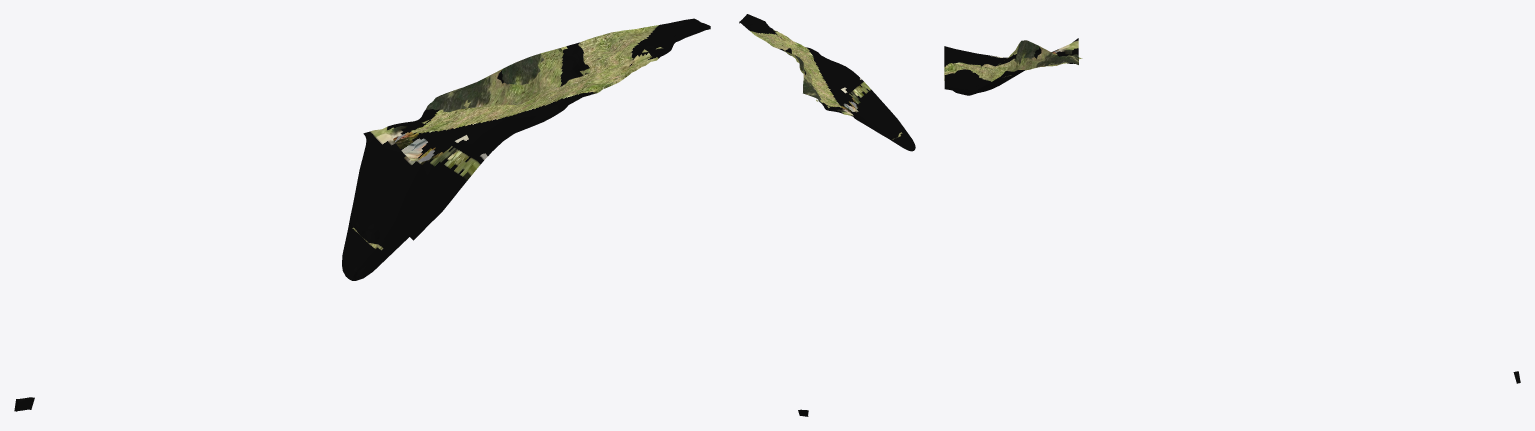
The picture shows the model from 3 angles, left to right: view 1: azimuth 30°, elevation 25°; view 2: azimuth 150°, elevation 25°; view 3: azimuth 270°, elevation 25°; orthographic projection. The views are drawn at different scales.
Parts seen in each view (by area): view 1: node_85; view 2: node_85; view 3: node_85.
Part boxes in pixels (x1,y1,x2,y2): node_85: [14, 18, 710, 411]; node_85: [739, 14, 915, 416]; node_85: [944, 38, 1520, 383].
Size of the model in its own units: 18.04 by 21 by 22.01.
1 material, 1 textured.
